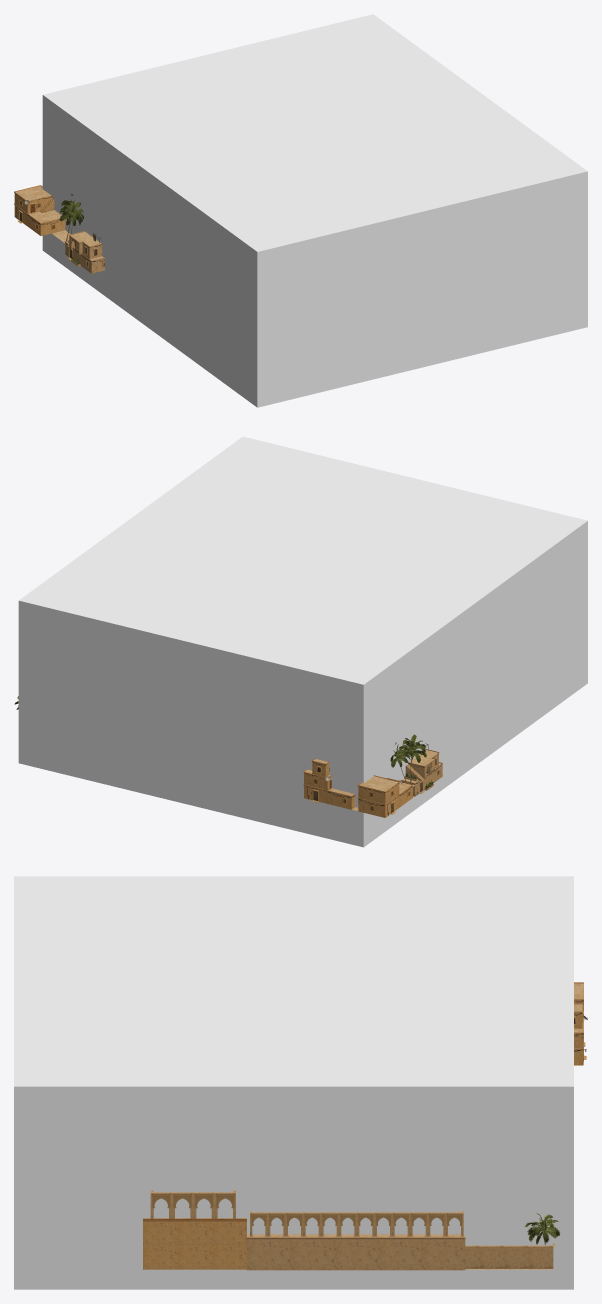
File: mirage_anubis_2k.glb
3 renders of one model, top to bottom at view 1: azimuth 30°, elevation 25°; view 2: azimuth 150°, elevation 25°; view 3: azimuth 270°, elevation 25°, orthographic. The views are drawn at different scales.
Parts seen in each view (by area): view 1: Voluemtric, Building_29, Building_22, Section_01; view 2: Voluemtric, Building_29, Building_19, Building_22; view 3: Voluemtric, Section_02, Section_03, Building_04, Building, PalmTree_11.
Boxes of the visible parts, x1,y1,x2,y2 form: Voluemtric: [42, 14, 587, 407]; Building_29: [14, 185, 65, 235]; Building_22: [67, 231, 102, 259]; Section_01: [64, 240, 104, 273]; Voluemtric: [18, 436, 587, 847]; Building_29: [357, 775, 413, 817]; Building_19: [303, 769, 355, 809]; Building_22: [404, 743, 439, 781]; Voluemtric: [14, 876, 573, 1289]; Section_02: [246, 1234, 554, 1270]; Section_03: [143, 1218, 246, 1269]; Building_04: [250, 1211, 463, 1236]; Building: [150, 1190, 235, 1218]; PalmTree_11: [524, 1213, 559, 1245].
Size of the model in its own units: 115 by 45.79 by 117.
Materials: 6 (5 with a texture image).
